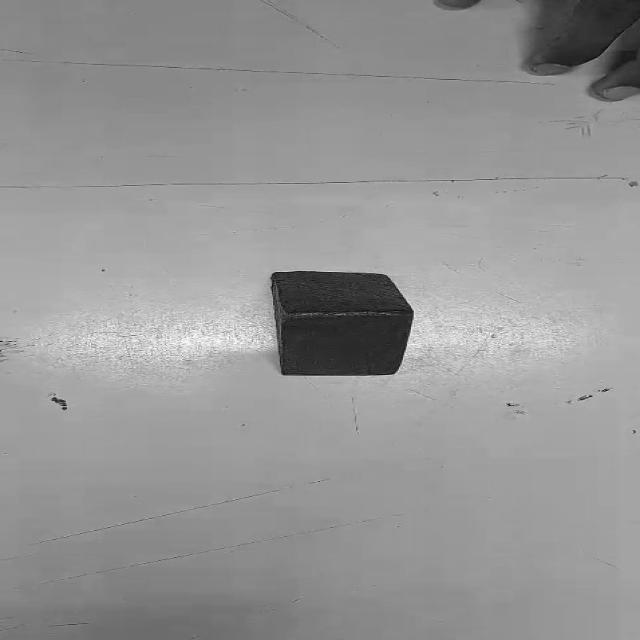btriangle: (266, 269, 418, 378)
